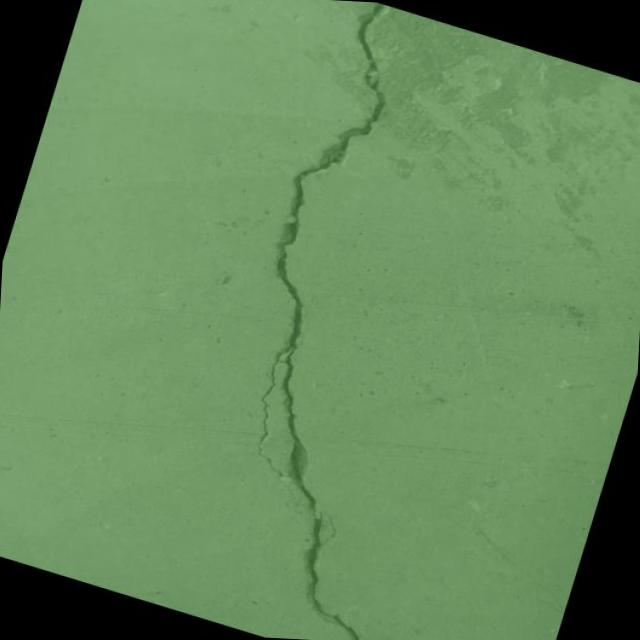crack: (162, 0, 555, 640), (449, 181, 640, 276)
